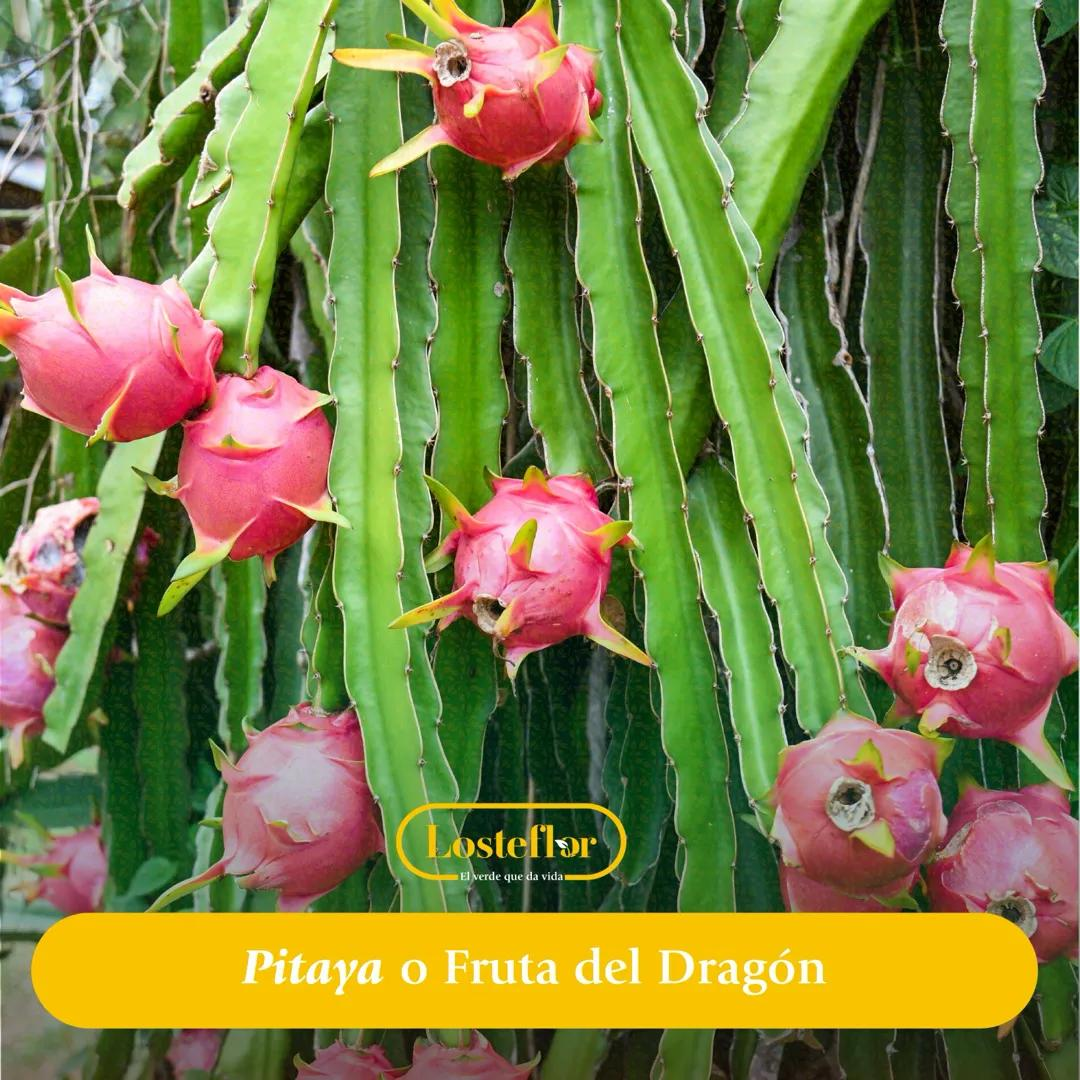dragon fruit: (320, 0, 626, 220), (400, 456, 665, 708), (828, 530, 1080, 748), (2, 228, 225, 457), (152, 360, 340, 615), (180, 696, 396, 911)
